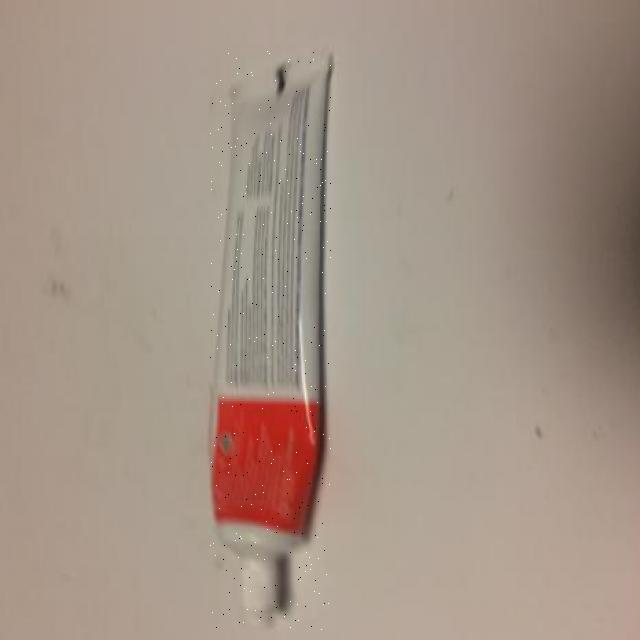plastic: (210, 50, 331, 632)
